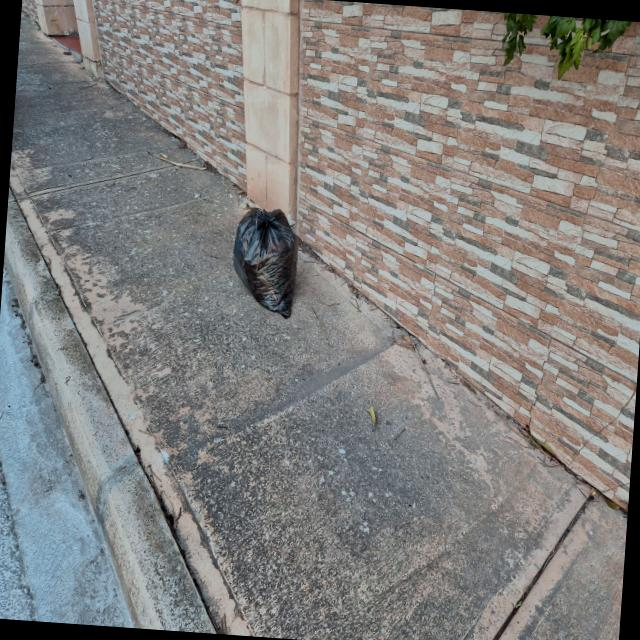black_bag: (225, 190, 315, 326)
